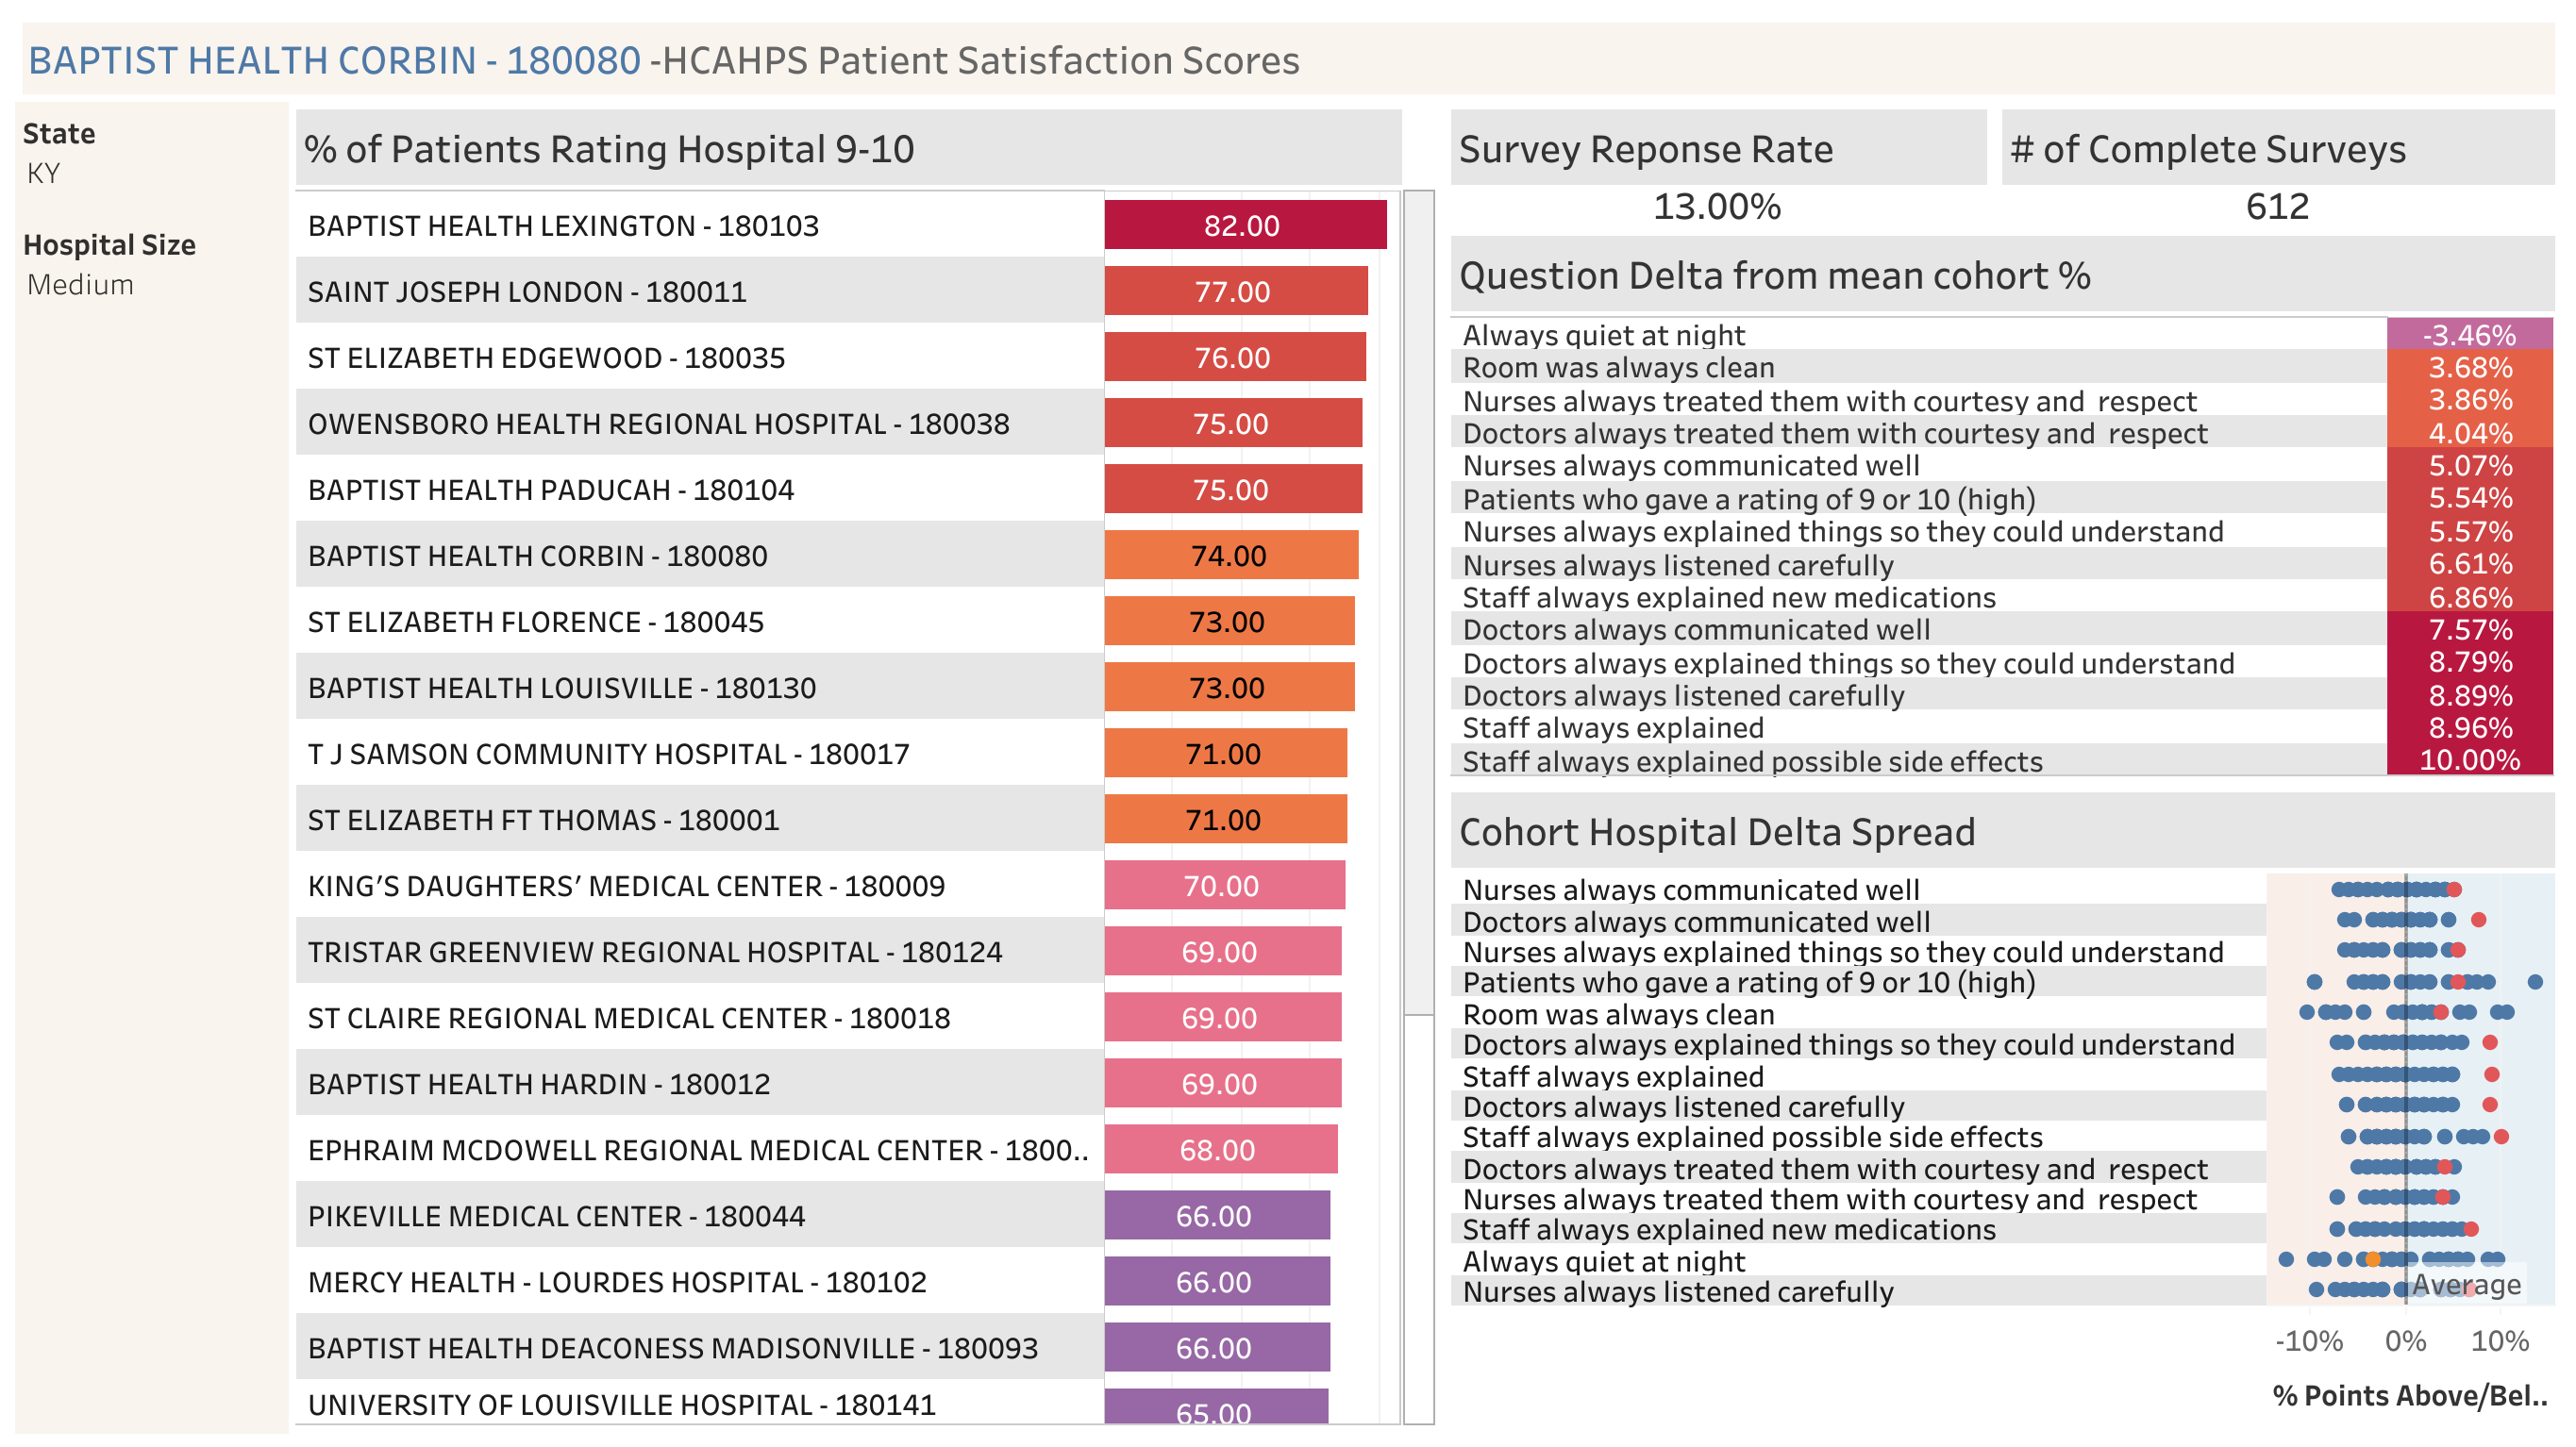

This screenshot's page, from the dashboard's own definition file:
{"tool":"tableau","page":{"name":"HCAHPA Dashboard","canvas":[1366,768],"ordinal":0},"visuals":[{"type":"text","box":[8,8,1350,46]},{"type":"filter","title":"% of Patients Rating Hospital 9-10","param":"[federated.0gy0wi70zpct2d1e138v30jvyqub].[none:state:nk]","box":[8,54,145,56]},{"type":"worksheet","title":"% of Patients Rating Hospital 9-10","mark":"Automatic","rows":["Calculation_3690542533910530"],"cols":["Calculation_0448907314700289"],"box":[153,54,612,706]},{"type":"worksheet","title":"Survey Reponse Rate","mark":"Text","box":[765,54,291.8,66.6]},{"type":"worksheet","title":"# of Complete Surveys","mark":"Text","box":[1056.8,54,301.2,66.6]},{"type":"filter","title":"% of Patients Rating Hospital 9-10","param":"[federated.0gy0wi70zpct2d1e138v30jvyqub].[none:Calculation_3690542522507264:nk]","box":[8,110,145,56]},{"type":"worksheet","title":"Question Delta from mean cohort %","mark":"Square","rows":["hcahps_answer_description"],"box":[765,120.6,593,295.4]},{"type":"worksheet","title":"Cohort Hospital Delta Spread","mark":"Circle","rows":["hcahps_answer_description"],"cols":["Calculation_3690542543761411"],"box":[765,416,593,344]}]}

Visuals, with their boxes in screenshot pixels (x1, y1, x2, y2), scaled from the page's 1366x768 canvas onto the 2576x1447 screenshot:
text: BBox(15, 15, 2561, 102)
"% of Patients Rating Hospital 9-10" filter: BBox(15, 102, 289, 208)
"% of Patients Rating Hospital 9-10" worksheet: BBox(289, 102, 1443, 1432)
"Survey Reponse Rate" worksheet (Text marks): BBox(1443, 102, 1993, 227)
"# of Complete Surveys" worksheet (Text marks): BBox(1993, 102, 2561, 227)
"% of Patients Rating Hospital 9-10" filter: BBox(15, 208, 289, 313)
"Question Delta from mean cohort %" worksheet (Square marks): BBox(1443, 227, 2561, 784)
"Cohort Hospital Delta Spread" worksheet (Circle marks): BBox(1443, 784, 2561, 1432)
